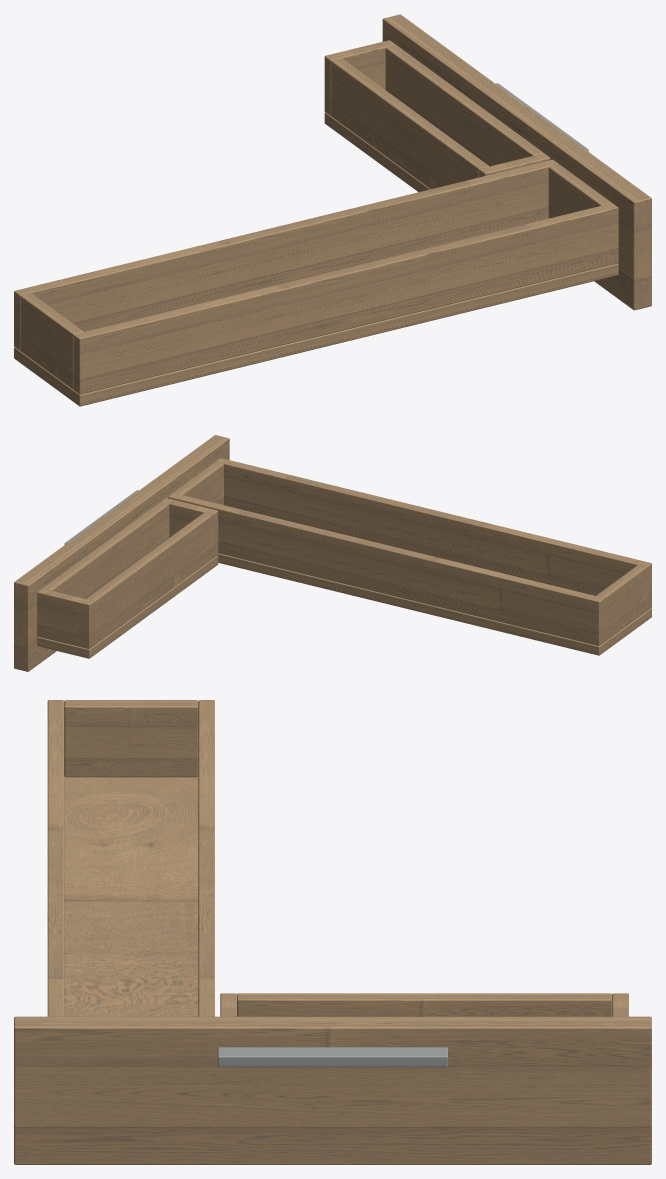
The model's file is kitchen_drawer_1_2.glb.
3 views of the same model, one above another, from view 1: azimuth 30°, elevation 25°; view 2: azimuth 150°, elevation 25°; view 3: azimuth 270°, elevation 25° (orthographic). The views are drawn at different scales.
Parts seen in each view (by area): view 1: kitchen_drawer_1_2, kitchen_drawer_1_2_bin_0_side_-1, kitchen_drawer_1_2_front, kitchen_drawer_1_2_bin_1_end_-1, kitchen_drawer_1_2_bin_0_floor, kitchen_drawer_1_2_bin_0_end_-1, kitchen_drawer_1_2_bin_1_floor, kitchen_drawer_1_2_bin_1_side_-1; view 2: kitchen_drawer_1_2, kitchen_drawer_1_2_bin_0_side_-1, kitchen_drawer_1_2_front, kitchen_drawer_1_2_bin_1_end_-1, kitchen_drawer_1_2_bin_0_floor, kitchen_drawer_1_2_bin_0_end_-1, kitchen_drawer_1_2_bin_1_floor, kitchen_drawer_1_2_bin_1_side_-1; view 3: kitchen_drawer_1_2_front, kitchen_drawer_1_2_bin_0_floor, kitchen_drawer_1_2_bin_0_end_-1, kitchen_drawer_1_2_bin_1_end_-1, kitchen_drawer_1_2, kitchen_drawer_1_2_bin_0_side_-1, kitchen_drawer_1_2_pull.
Part boxes in pixels (box(x1,y1,x2,y2)): kitchen_drawer_1_2: box(14, 40, 611, 350); kitchen_drawer_1_2_bin_0_side_-1: box(73, 203, 618, 394); kitchen_drawer_1_2_front: box(382, 14, 651, 310); kitchen_drawer_1_2_bin_1_end_-1: box(331, 58, 489, 188); kitchen_drawer_1_2_bin_0_floor: box(14, 263, 618, 406); kitchen_drawer_1_2_bin_0_end_-1: box(20, 293, 83, 389); kitchen_drawer_1_2_bin_1_floor: box(324, 112, 430, 192); kitchen_drawer_1_2_bin_1_side_-1: box(479, 153, 550, 177); kitchen_drawer_1_2: box(37, 462, 604, 649); kitchen_drawer_1_2_bin_0_side_-1: box(216, 458, 651, 610); kitchen_drawer_1_2_front: box(14, 435, 229, 671); kitchen_drawer_1_2_bin_1_end_-1: box(86, 512, 212, 644); kitchen_drawer_1_2_bin_0_floor: box(218, 553, 651, 655); kitchen_drawer_1_2_bin_0_end_-1: box(596, 565, 646, 641); kitchen_drawer_1_2_bin_1_floor: box(37, 555, 218, 658); kitchen_drawer_1_2_bin_1_side_-1: box(161, 498, 218, 558); kitchen_drawer_1_2_front: box(14, 1016, 651, 1164); kitchen_drawer_1_2_bin_0_floor: box(64, 776, 198, 1016); kitchen_drawer_1_2_bin_0_end_-1: box(64, 700, 198, 777); kitchen_drawer_1_2_bin_1_end_-1: box(237, 993, 612, 1016); kitchen_drawer_1_2: box(198, 700, 628, 1016); kitchen_drawer_1_2_bin_0_side_-1: box(47, 700, 64, 1016); kitchen_drawer_1_2_pull: box(217, 1047, 448, 1067).
Bounding box in the file's own units: 0.806 × 0.145 × 0.609.
2 materials, 1 textured.
